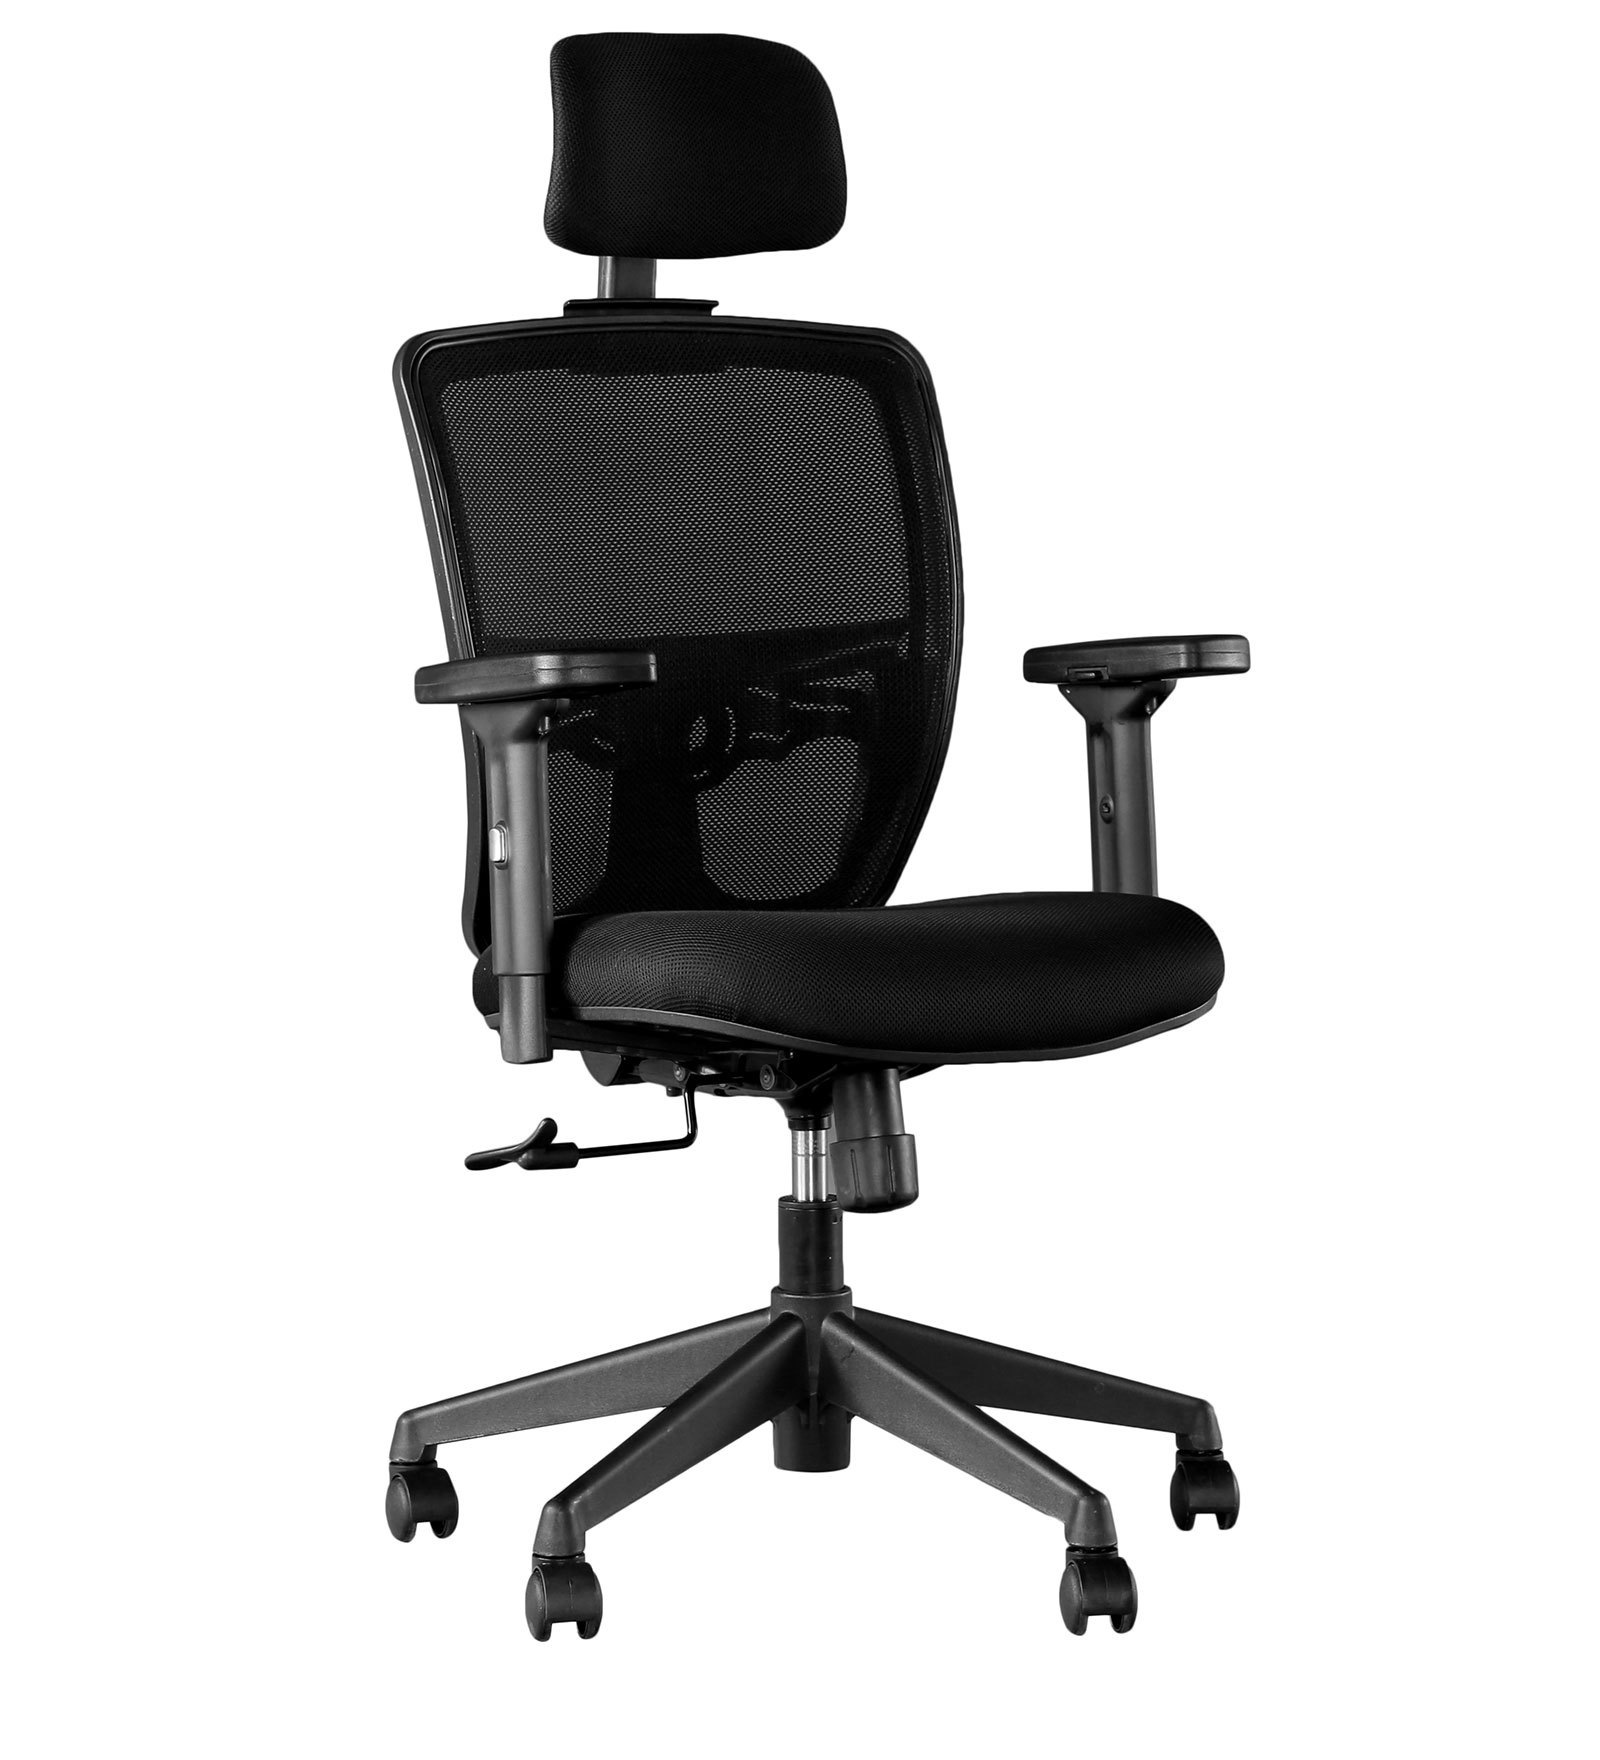Aspire High Back Ergonomic Chair in Black Colour by HomeTown: (317, 23, 1295, 1693)
